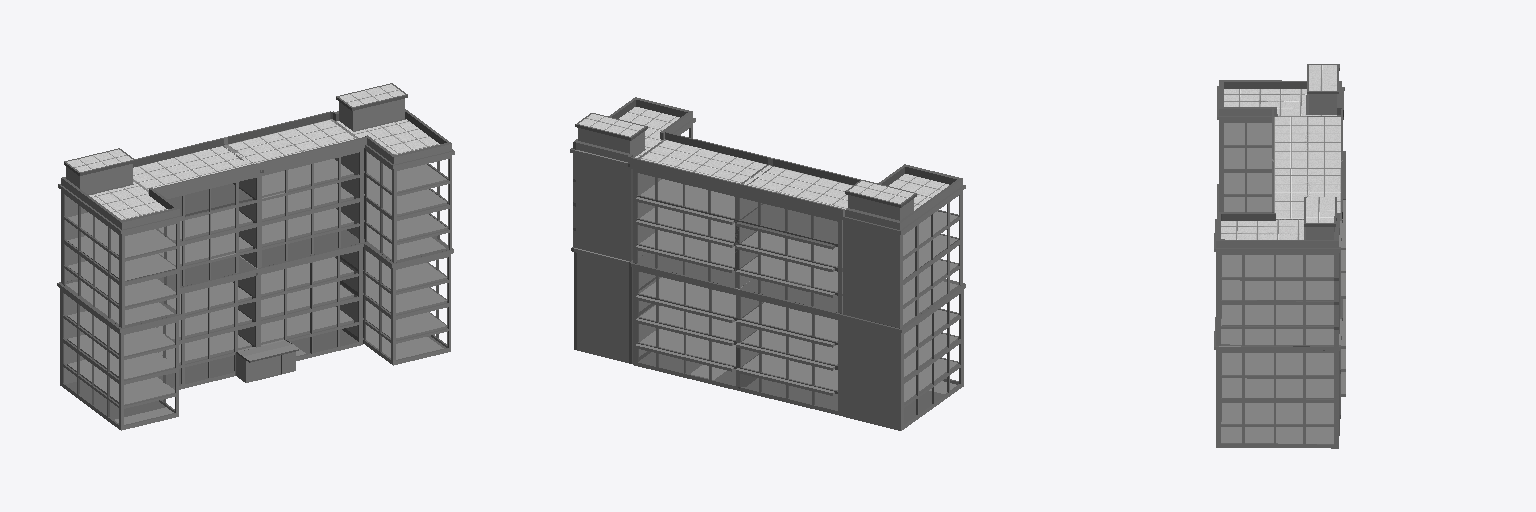
3 views of the same model, side by side, from view 1: azimuth 30°, elevation 25°; view 2: azimuth 150°, elevation 25°; view 3: azimuth 270°, elevation 25° (orthographic).
Visible parts, largest first — view 1: Departamento; view 2: Departamento; view 3: Departamento.
Part boxes in pixels (bbox=[...]): Departamento: bbox=[57, 83, 454, 430]; Departamento: bbox=[570, 97, 965, 430]; Departamento: bbox=[1214, 64, 1345, 448].
Bounding box in the file's own units: 376 × 241 × 128.
Materials: 7 (2 with a texture image).